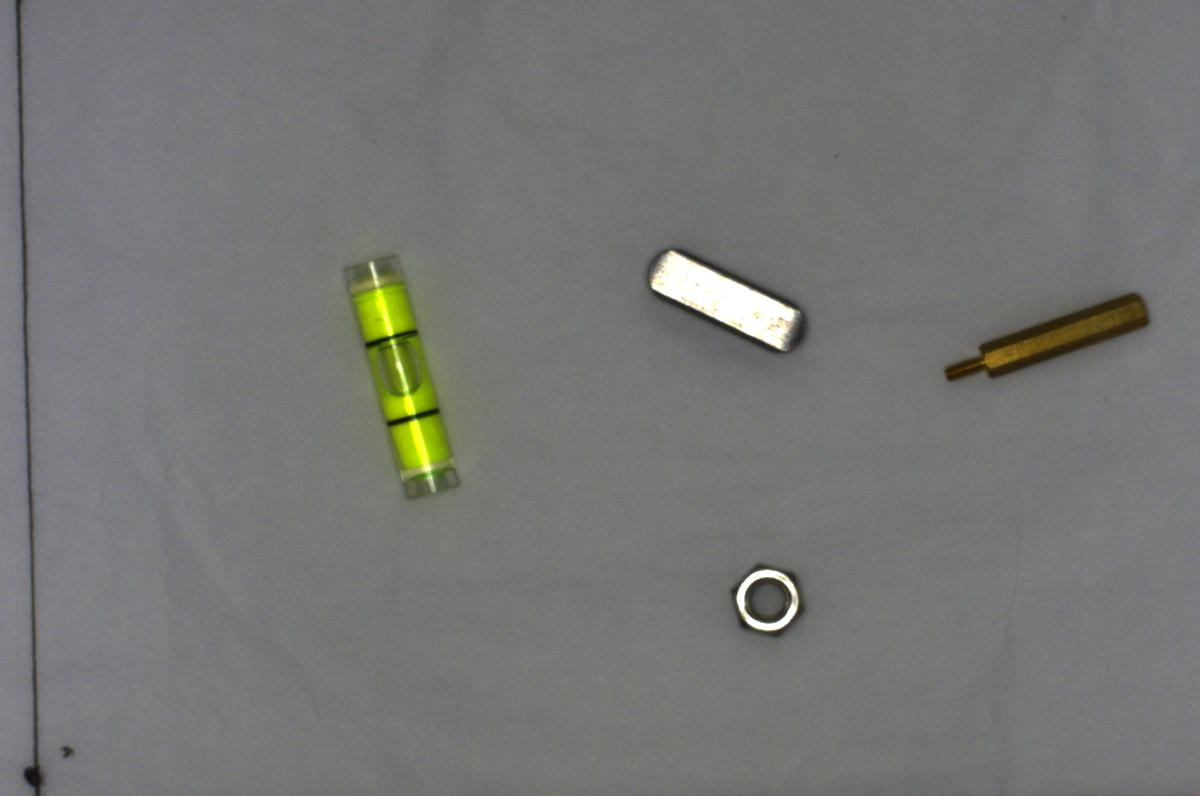Hexagon nut: (725, 555, 807, 636)
Hexagon pillar: (931, 287, 1157, 407)
Horizontal bubble: (326, 239, 470, 509)
Keybar: (637, 235, 814, 366)
